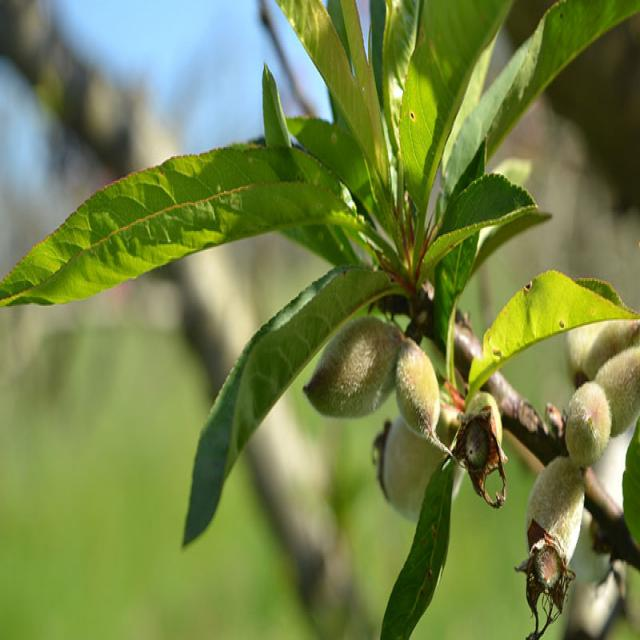peach: (282, 0, 549, 516)
